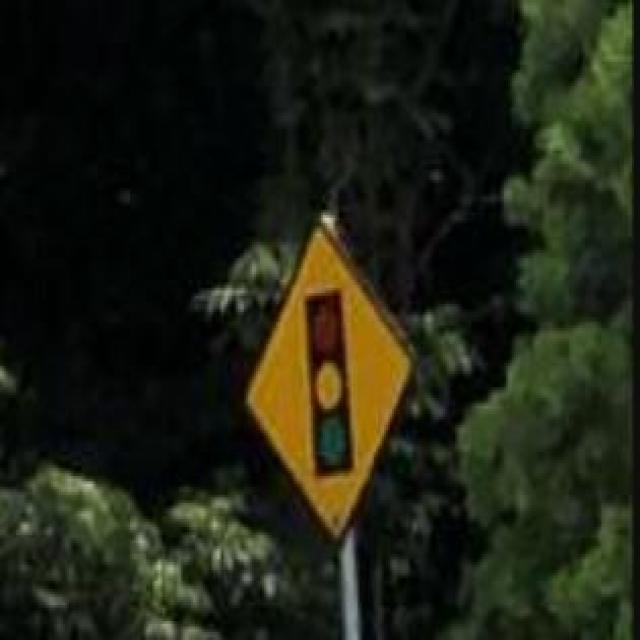traffic sign: (248, 226, 408, 527)
